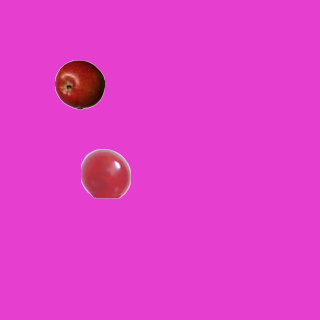Apple Braeburn: (54, 59, 104, 109)
Redcurrant: (80, 148, 130, 198)
